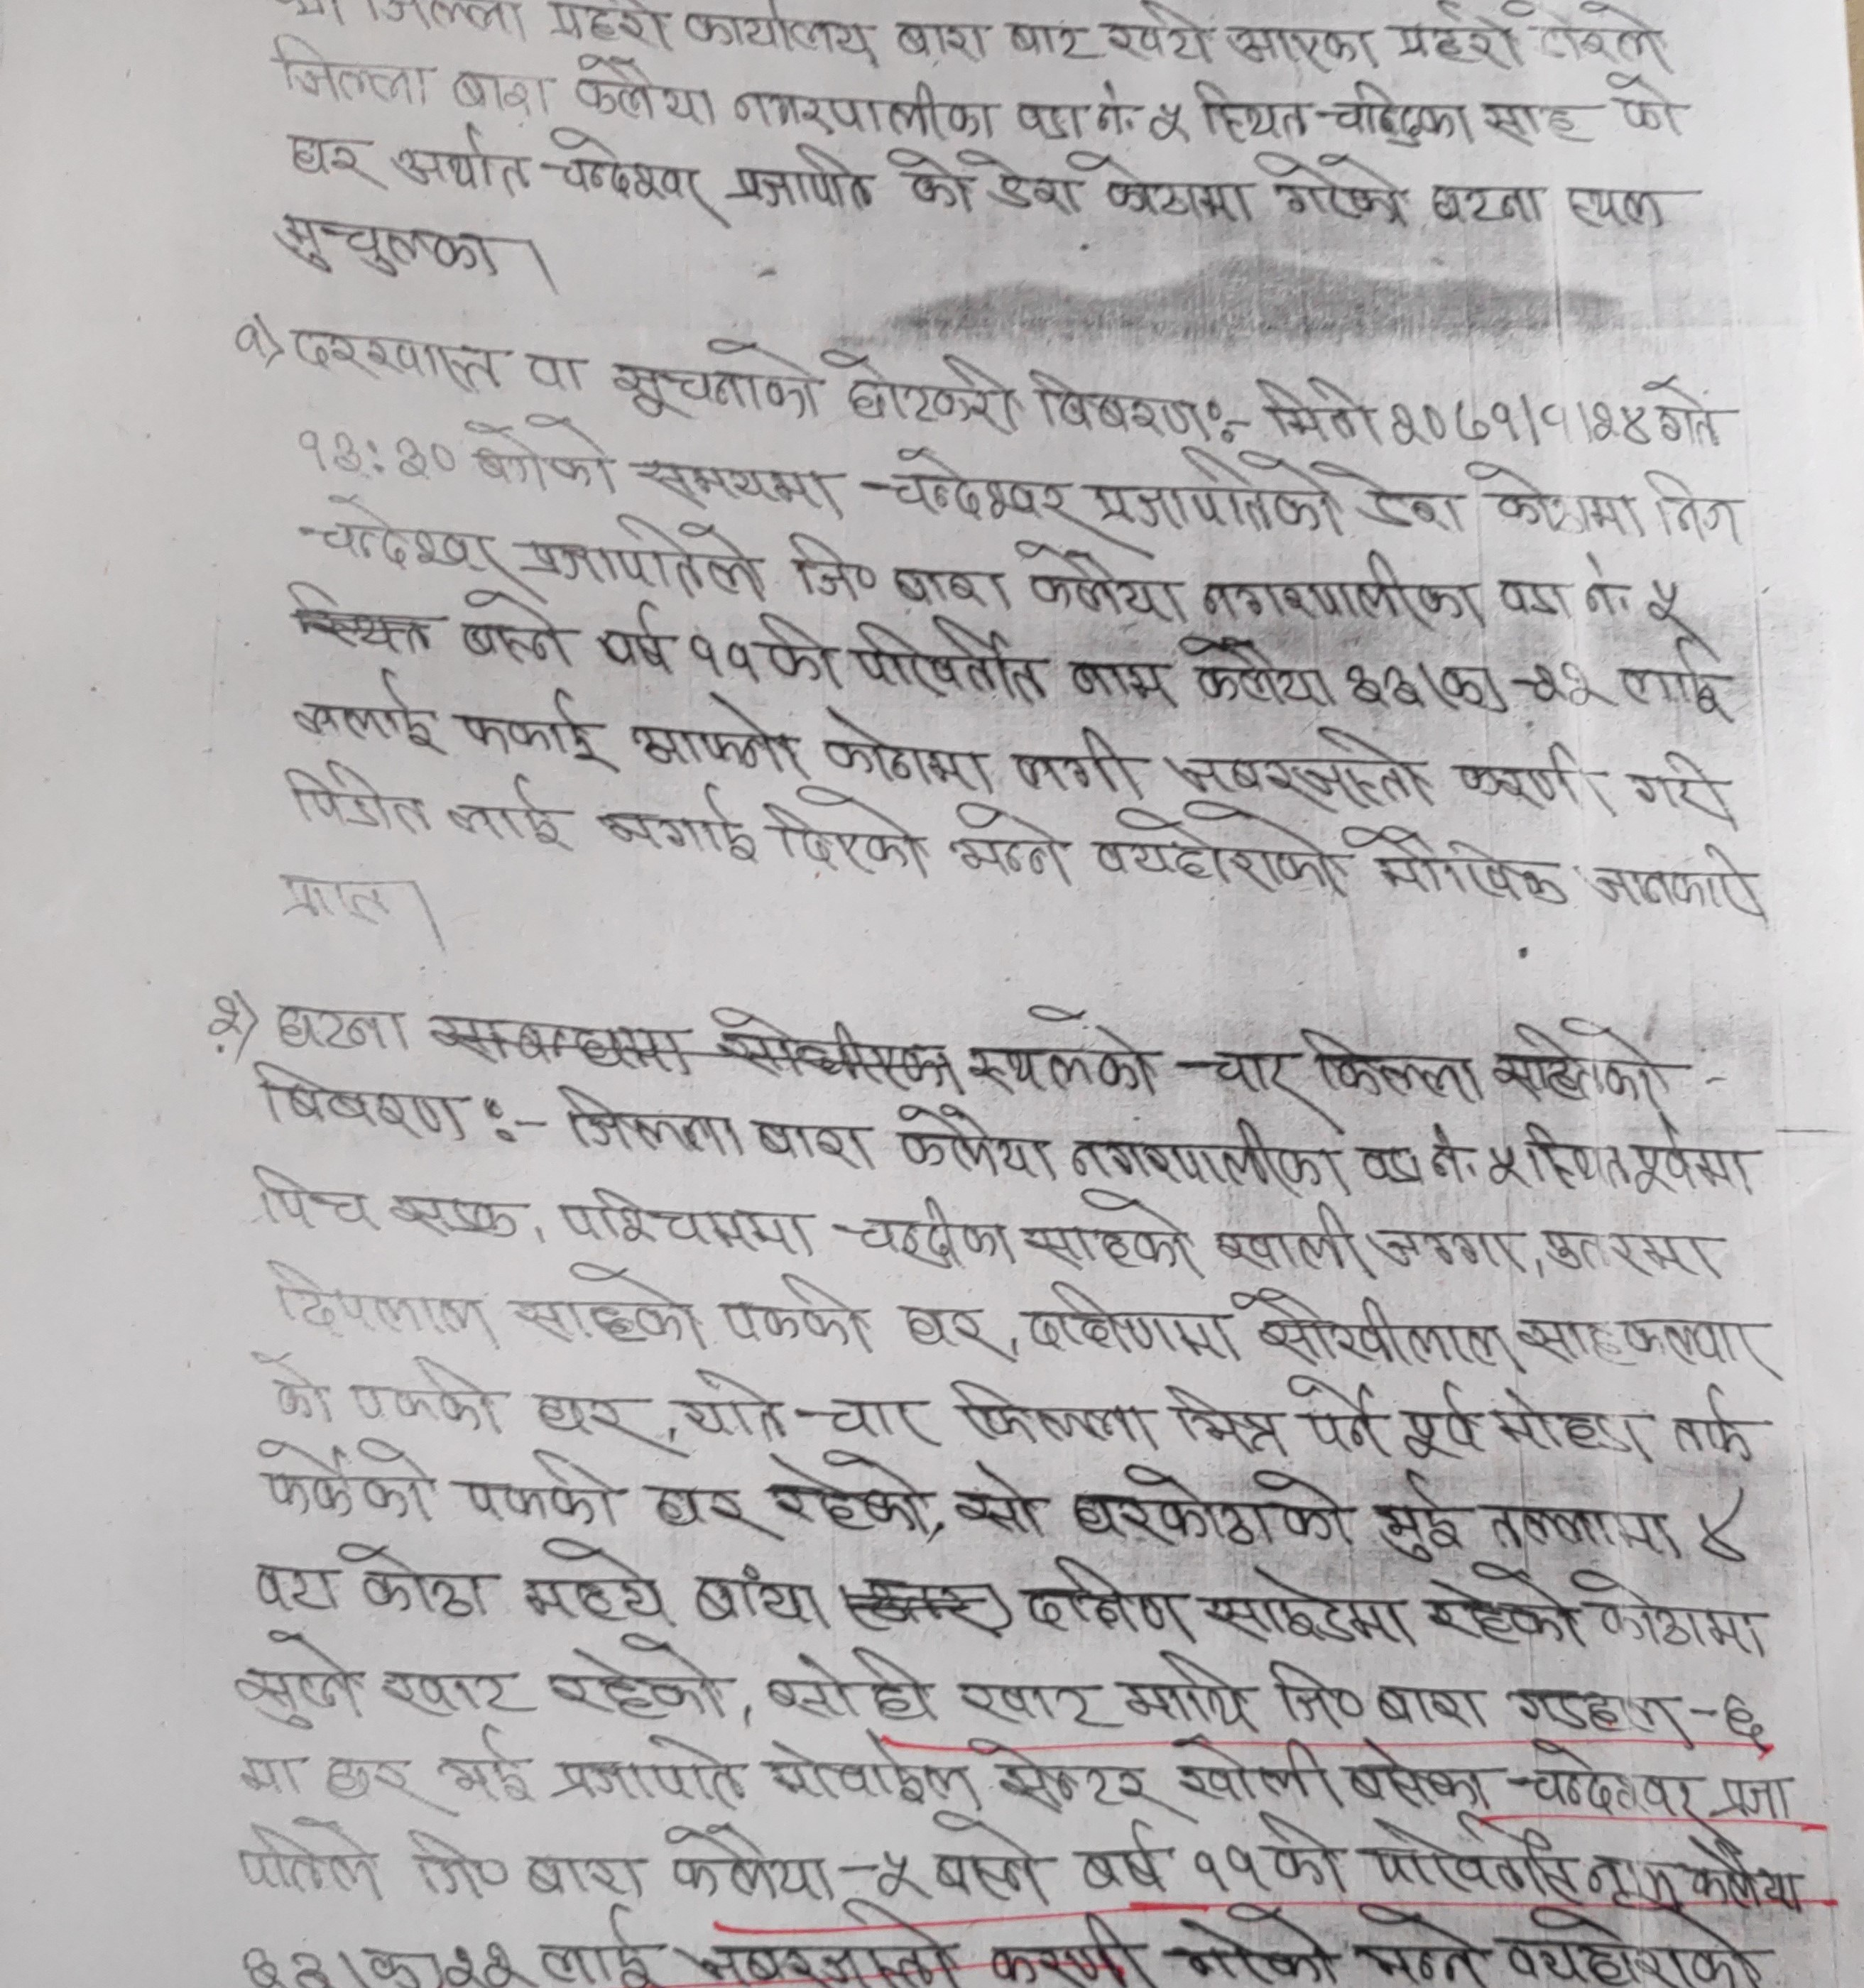text: (1237, 1282, 1514, 1373), (1200, 543, 1486, 631), (1088, 804, 1342, 900), (1069, 1463, 1356, 1547), (1165, 725, 1440, 811), (512, 510, 769, 599), (1496, 1904, 1768, 1988), (1351, 1809, 1584, 1904), (1086, 447, 1331, 536), (263, 1256, 499, 1343), (1069, 1114, 1344, 1188), (822, 342, 1023, 440), (848, 611, 1053, 708), (731, 72, 1002, 144), (965, 1004, 1154, 1105), (1340, 825, 1571, 907), (862, 445, 1083, 531), (300, 492, 510, 582), (557, 1186, 818, 1258), (608, 335, 822, 422), (1387, 387, 1654, 457), (1197, 1566, 1417, 1650), (249, 1056, 462, 1142), (506, 1261, 708, 1350), (545, 1627, 727, 1725), (1582, 1568, 1769, 1662), (1027, 1279, 1237, 1363), (1484, 1011, 1677, 1102), (759, 1732, 985, 1809), (536, 124, 717, 221), (759, 781, 930, 881), (252, 1433, 433, 1527), (543, 1732, 746, 1815), (272, 210, 501, 282), (1016, 1188, 1200, 1277), (1571, 841, 1768, 923), (1018, 1550, 1197, 1639), (1414, 1564, 1582, 1659), (944, 1373, 1154, 1449), (1034, 361, 1216, 447), (1508, 1736, 1701, 1816), (760, 1643, 944, 1727), (1512, 1308, 1771, 1368), (818, 706, 997, 792), (554, 1084, 748, 1163), (664, 1815, 832, 1906), (520, 1534, 681, 1629), (1160, 1904, 1340, 1988), (627, 694, 811, 776), (1014, 541, 1193, 624), (1463, 459, 1645, 539), (294, 328, 503, 398), (764, 1447, 925, 1536), (229, 1627, 364, 1732), (592, 779, 759, 864), (839, 1193, 1016, 1272), (634, 450, 837, 518), (1302, 1030, 1486, 1105), (990, 1743, 1172, 1818), (892, 1102, 1060, 1182), (464, 410, 618, 497), (1487, 1384, 1650, 1466), (457, 1449, 627, 1527), (713, 1272, 871, 1356), (1253, 149, 1412, 231), (1174, 1732, 1344, 1809), (226, 1815, 384, 1897), (1177, 634, 1340, 713), (1091, 149, 1253, 228), (1118, 1643, 1260, 1732), (291, 666, 438, 751), (1486, 1496, 1684, 1559), (1454, 739, 1615, 814), (352, 1354, 505, 1433), (1540, 1221, 1734, 1282), (1505, 1673, 1689, 1738), (1211, 1200, 1365, 1277), (455, 688, 611, 764), (282, 758, 431, 837), (569, 53, 724, 128), (275, 33, 434, 105), (722, 142, 879, 214), (1317, 79, 1475, 151), (1345, 1906, 1482, 1988), (685, 4, 879, 61), (392, 121, 531, 200), (443, 772, 576, 853), (540, 1902, 664, 1988), (1626, 1116, 1755, 1198), (939, 800, 1074, 879), (1253, 370, 1384, 450), (1617, 634, 1734, 723), (1338, 1745, 1500, 1809), (671, 1364, 794, 1449), (1007, 723, 1144, 799), (934, 1813, 1044, 1906), (1368, 1470, 1472, 1568), (363, 1541, 491, 1620), (247, 1158, 375, 1235), (455, 589, 580, 667), (434, 1724, 533, 1822), (1365, 1216, 1526, 1275), (294, 426, 457, 483), (1161, 1380, 1284, 1456), (695, 1564, 829, 1632), (1627, 746, 1741, 823), (960, 1676, 1114, 1732), (1393, 4, 1519, 72), (1522, 1114, 1629, 1195), (1533, 5, 1673, 67), (1642, 466, 1750, 545), (792, 1385, 936, 1445), (1692, 1830, 1810, 1902), (1288, 1373, 1387, 1457), (1225, 19, 1380, 72), (378, 1664, 529, 1718), (405, 1827, 513, 1902), (1256, 1806, 1349, 1893), (1177, 1046, 1305, 1109), (783, 524, 883, 604), (1193, 77, 1310, 145), (275, 998, 406, 1058), (1102, 2, 1219, 68), (1272, 1652, 1366, 1734), (1079, 1816, 1176, 1897), (272, 867, 392, 930), (1402, 1377, 1487, 1463), (757, 611, 848, 692), (953, 1461, 1046, 1540), (892, 1300, 1007, 1363), (750, 1116, 874, 1174), (385, 1189, 520, 1242), (1670, 1384, 1755, 1463), (522, 1851, 653, 1902), (1647, 375, 1733, 452), (652, 1480, 759, 1541), (592, 599, 674, 678), (322, 1755, 438, 1811), (1361, 471, 1463, 534), (885, 147, 969, 222), (251, 1347, 335, 1422), (1479, 95, 1594, 149), (890, 557, 1013, 608), (1067, 657, 1177, 713), (531, 1389, 648, 1442), (1599, 67, 1677, 144), (448, 67, 554, 123), (1370, 1678, 1486, 1729), (252, 1559, 345, 1620), (1342, 660, 1424, 723), (543, 5, 671, 46), (893, 14, 990, 67), (1691, 1489, 1757, 1564), (1430, 182, 1543, 226), (1563, 184, 1668, 229), (1708, 1773, 1796, 1827), (990, 173, 1083, 222), (1587, 1848, 1682, 1895), (287, 130, 371, 182), (1002, 19, 1095, 67), (1016, 93, 1088, 149), (1191, 1843, 1261, 1899), (685, 631, 757, 683), (1529, 657, 1601, 709), (1438, 659, 1505, 715), (1496, 573, 1575, 620), (1580, 555, 1633, 625), (229, 1753, 305, 1801), (1715, 1687, 1775, 1745), (1354, 1144, 1430, 1189), (519, 350, 585, 396), (1640, 578, 1692, 634), (1426, 1121, 1470, 1188), (874, 1846, 927, 1899), (1482, 1139, 1526, 1193), (1095, 84, 1135, 140), (1147, 98, 1193, 147)
